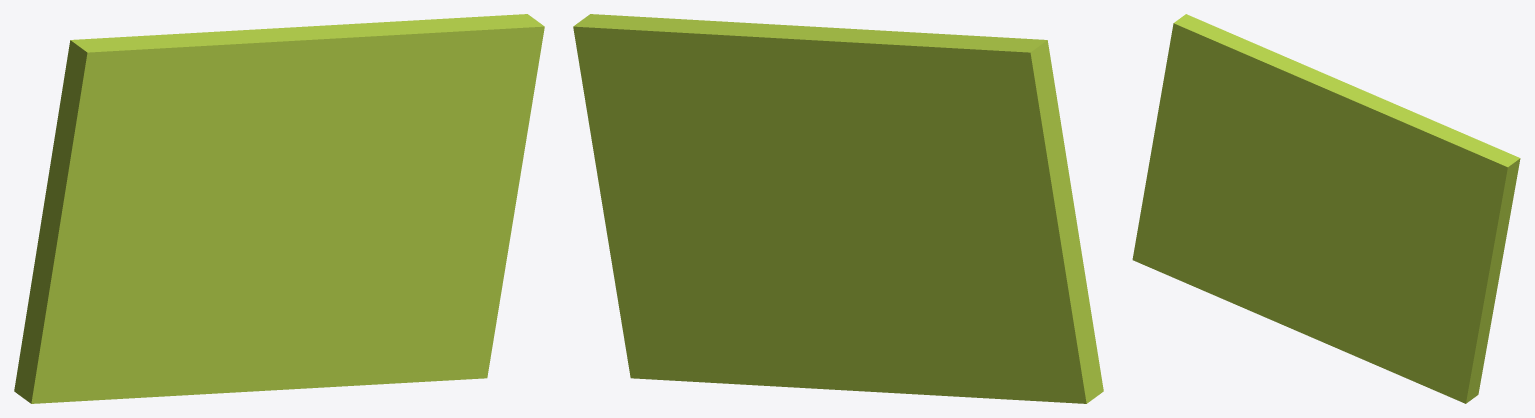
3 views of the same model, side by side, from view 1: azimuth 30°, elevation 25°; view 2: azimuth 150°, elevation 25°; view 3: azimuth 330°, elevation 25° (orthographic). The views are drawn at different scales.
Parts seen in each view (by area): view 1: osm-way27917482-F1; view 2: osm-way27917482-F1; view 3: osm-way27917482-F1.
Part boxes in pixels (x1,y1,x2,y2): osm-way27917482-F1: [14, 14, 544, 403]; osm-way27917482-F1: [573, 14, 1103, 403]; osm-way27917482-F1: [1132, 14, 1520, 403].
Size of the model in its own units: 2.58 by 2.04 by 0.15.
